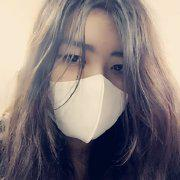OK: (41, 38, 142, 139)
